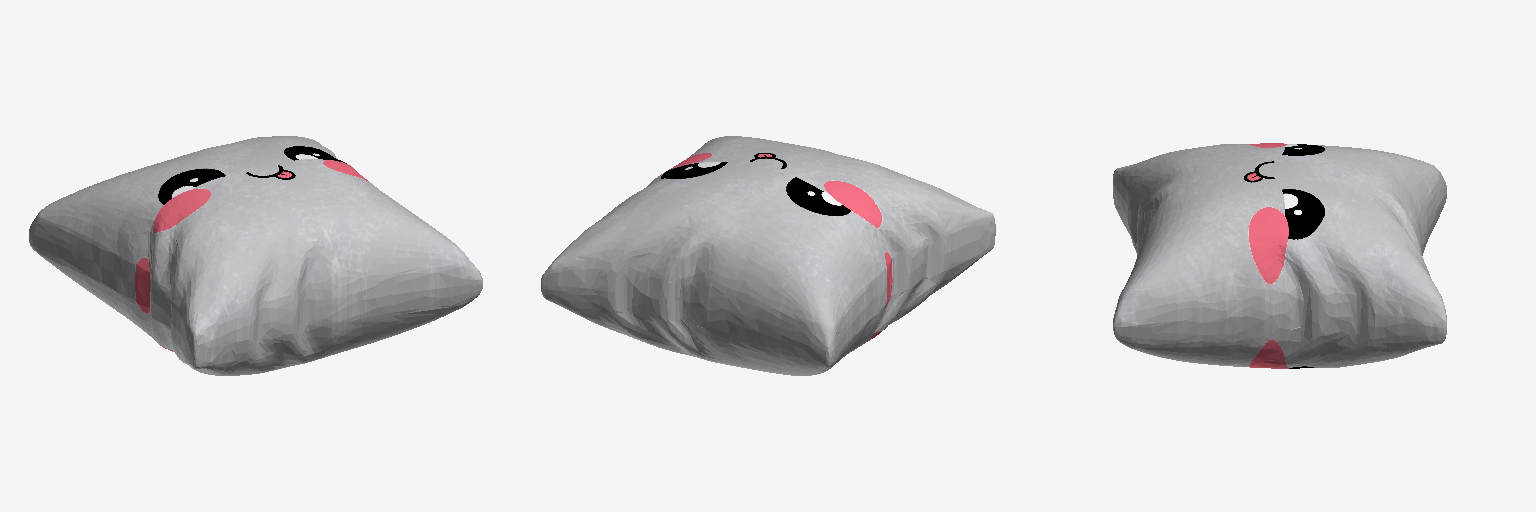
The picture shows the model from 3 angles: view 1: azimuth 30°, elevation 25°; view 2: azimuth 150°, elevation 25°; view 3: azimuth 270°, elevation 25°; orthographic projection.
Visible parts, largest first — view 1: white; view 2: white; view 3: white.
Boxes of the visible parts, box(x1,y1,x2,y2) form: white: box(29, 136, 482, 375); white: box(541, 136, 995, 375); white: box(1113, 143, 1446, 368).
Size of the model in its own units: 6.14 by 3.58 by 6.12.
1 materials, 1 textured.